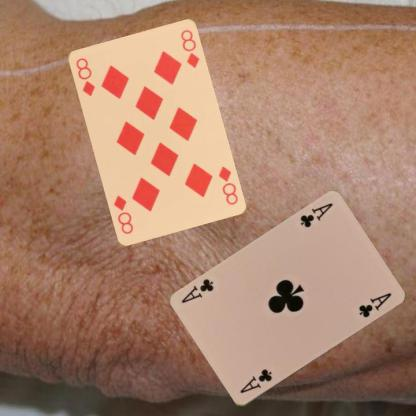8d: (73, 55, 96, 98), (216, 164, 239, 206)
Ac: (297, 201, 335, 230), (237, 366, 273, 396)
